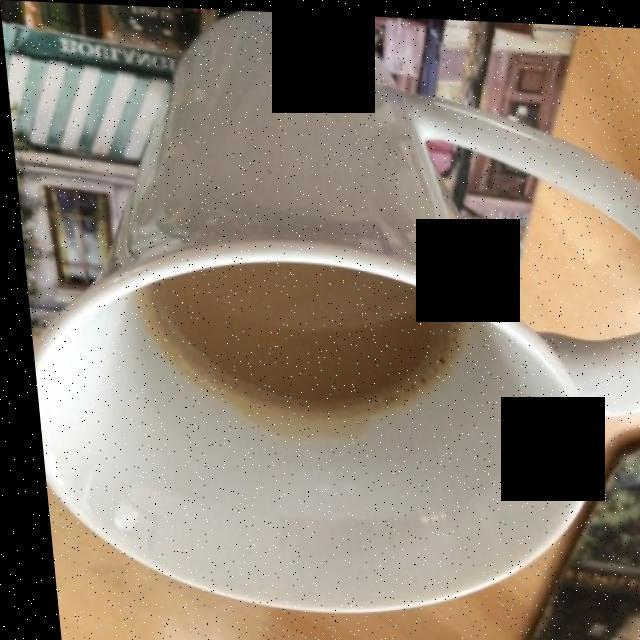coffee: (141, 260, 455, 415)
